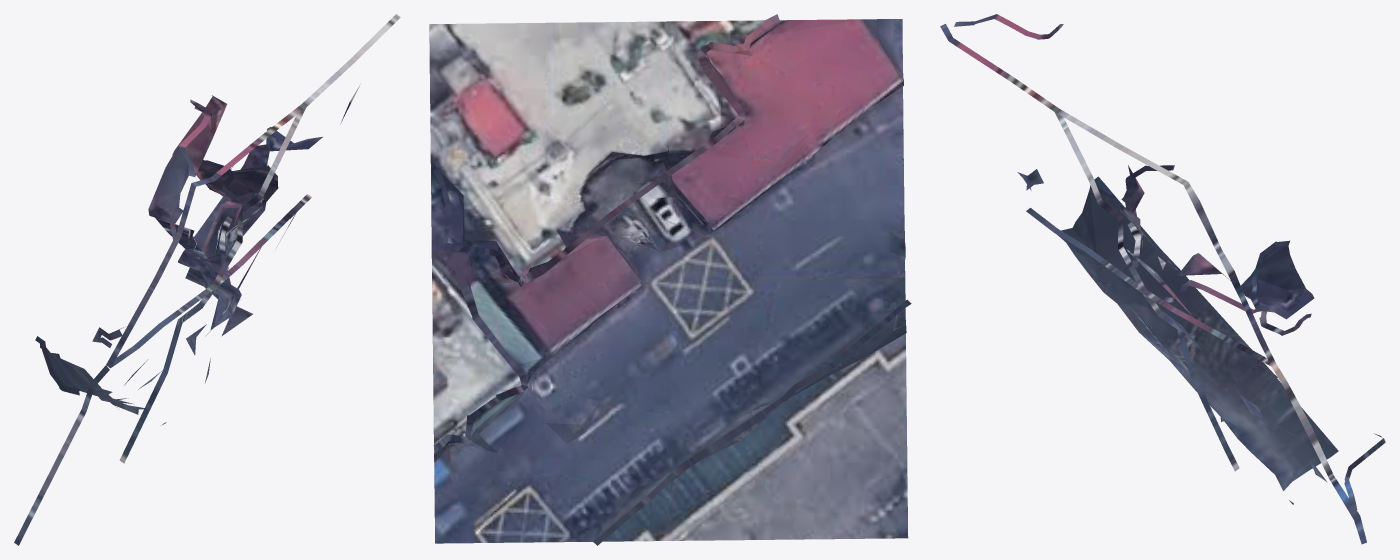
3 renders of one model, left to right at view 1: azimuth 30°, elevation 25°; view 2: azimuth 150°, elevation 25°; view 3: azimuth 270°, elevation 25°, orthographic. The views are drawn at different scales.
Bounding box in the file's own units: 37.75 × 37.57 × 34.21.
1 material, 1 textured.
